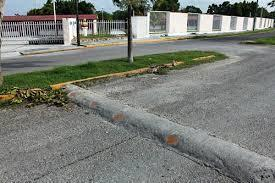speedbreaker: (65, 86, 275, 178)
